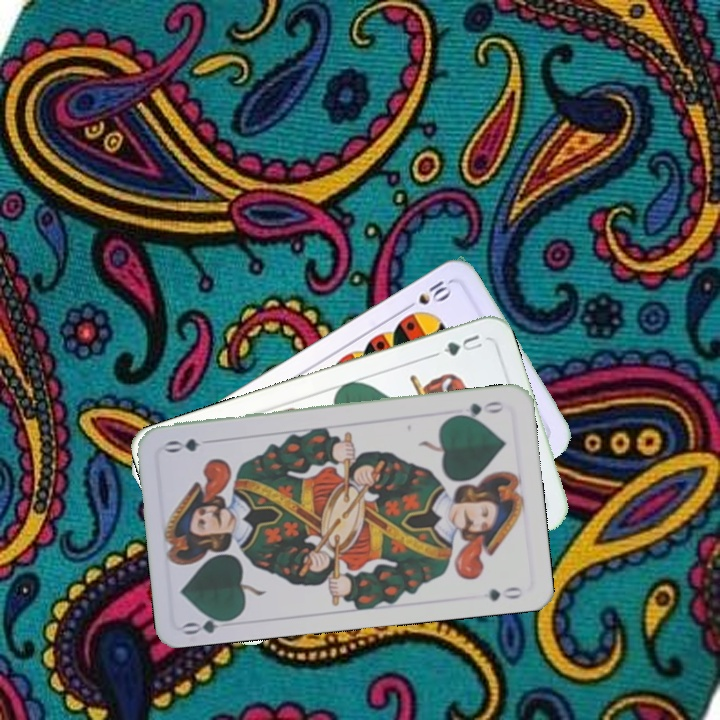GO: (180, 609, 238, 638), (450, 397, 506, 422)
GU: (430, 330, 485, 359)
S10: (399, 276, 454, 313)
